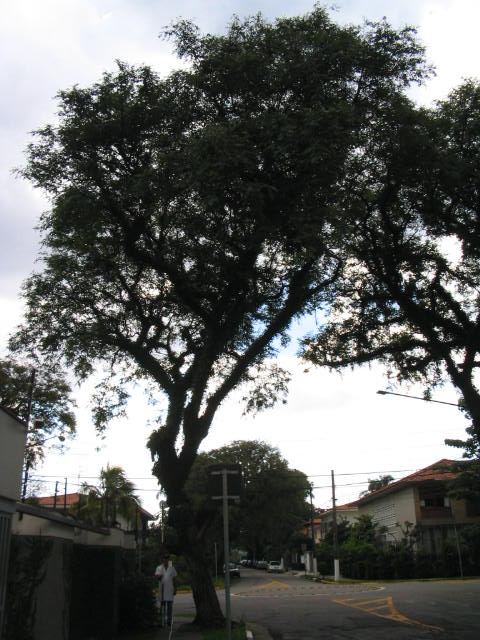crown: (7, 2, 437, 397)
stem: (166, 496, 232, 628)
stick: (155, 502, 170, 630)
tree: (4, 1, 437, 630)
